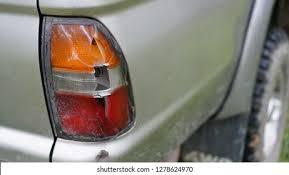Taillight-Damage: (60, 19, 126, 145)
